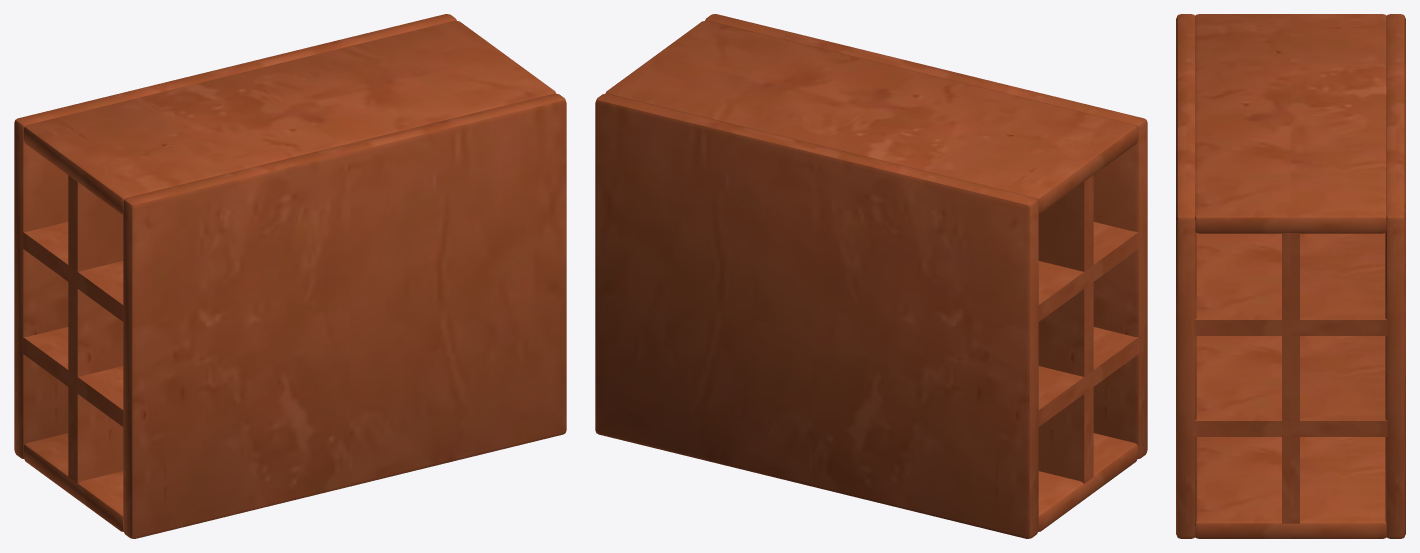
The model's file is ALV-BLC-001.glb.
3 renders of one model, left to right at view 1: azimuth 30°, elevation 25°; view 2: azimuth 150°, elevation 25°; view 3: azimuth 270°, elevation 25°, orthographic. The views are drawn at different scales.
Parts seen in each view (by area): view 1: ALV-BLC-001_pf1, ALV-BLC-001_pt, ALV-BLC-001_pf2, ALV-BLC-001_sv1, ALV-BLC-001_pb, ALV-BLC-001_sh1, ALV-BLC-001_sh2; view 2: ALV-BLC-001_pf2, ALV-BLC-001_pt, ALV-BLC-001_pf1, ALV-BLC-001_sv1, ALV-BLC-001_pb, ALV-BLC-001_sh2, ALV-BLC-001_sh1; view 3: ALV-BLC-001_pt, ALV-BLC-001_sh2, ALV-BLC-001_pb, ALV-BLC-001_sh1, ALV-BLC-001_pf1, ALV-BLC-001_pf2, ALV-BLC-001_sv1.
Part boxes in pixels (x1,y1,x2,y2): ALV-BLC-001_pf1: (123,93,566,538); ALV-BLC-001_pt: (23,20,556,213); ALV-BLC-001_pf2: (14,14,456,458); ALV-BLC-001_sv1: (68,175,123,483); ALV-BLC-001_pb: (23,433,123,531); ALV-BLC-001_sh1: (23,327,123,426); ALV-BLC-001_sh2: (23,222,123,321); ALV-BLC-001_pf2: (595,93,1038,538); ALV-BLC-001_pt: (605,20,1138,213); ALV-BLC-001_pf1: (705,14,1147,458); ALV-BLC-001_sv1: (1038,175,1093,483); ALV-BLC-001_pb: (1038,433,1138,531); ALV-BLC-001_sh2: (1038,222,1138,321); ALV-BLC-001_sh1: (1038,327,1138,426); ALV-BLC-001_pt: (1195,14,1386,233); ALV-BLC-001_sh2: (1194,233,1387,335); ALV-BLC-001_pb: (1195,437,1386,538); ALV-BLC-001_sh1: (1194,336,1387,436); ALV-BLC-001_pf1: (1176,14,1196,538); ALV-BLC-001_pf2: (1385,14,1405,538); ALV-BLC-001_sv1: (1282,233,1299,523).
Size of the model in its own units: 0.19 by 0.14 by 0.09.
1 material, 1 textured.
